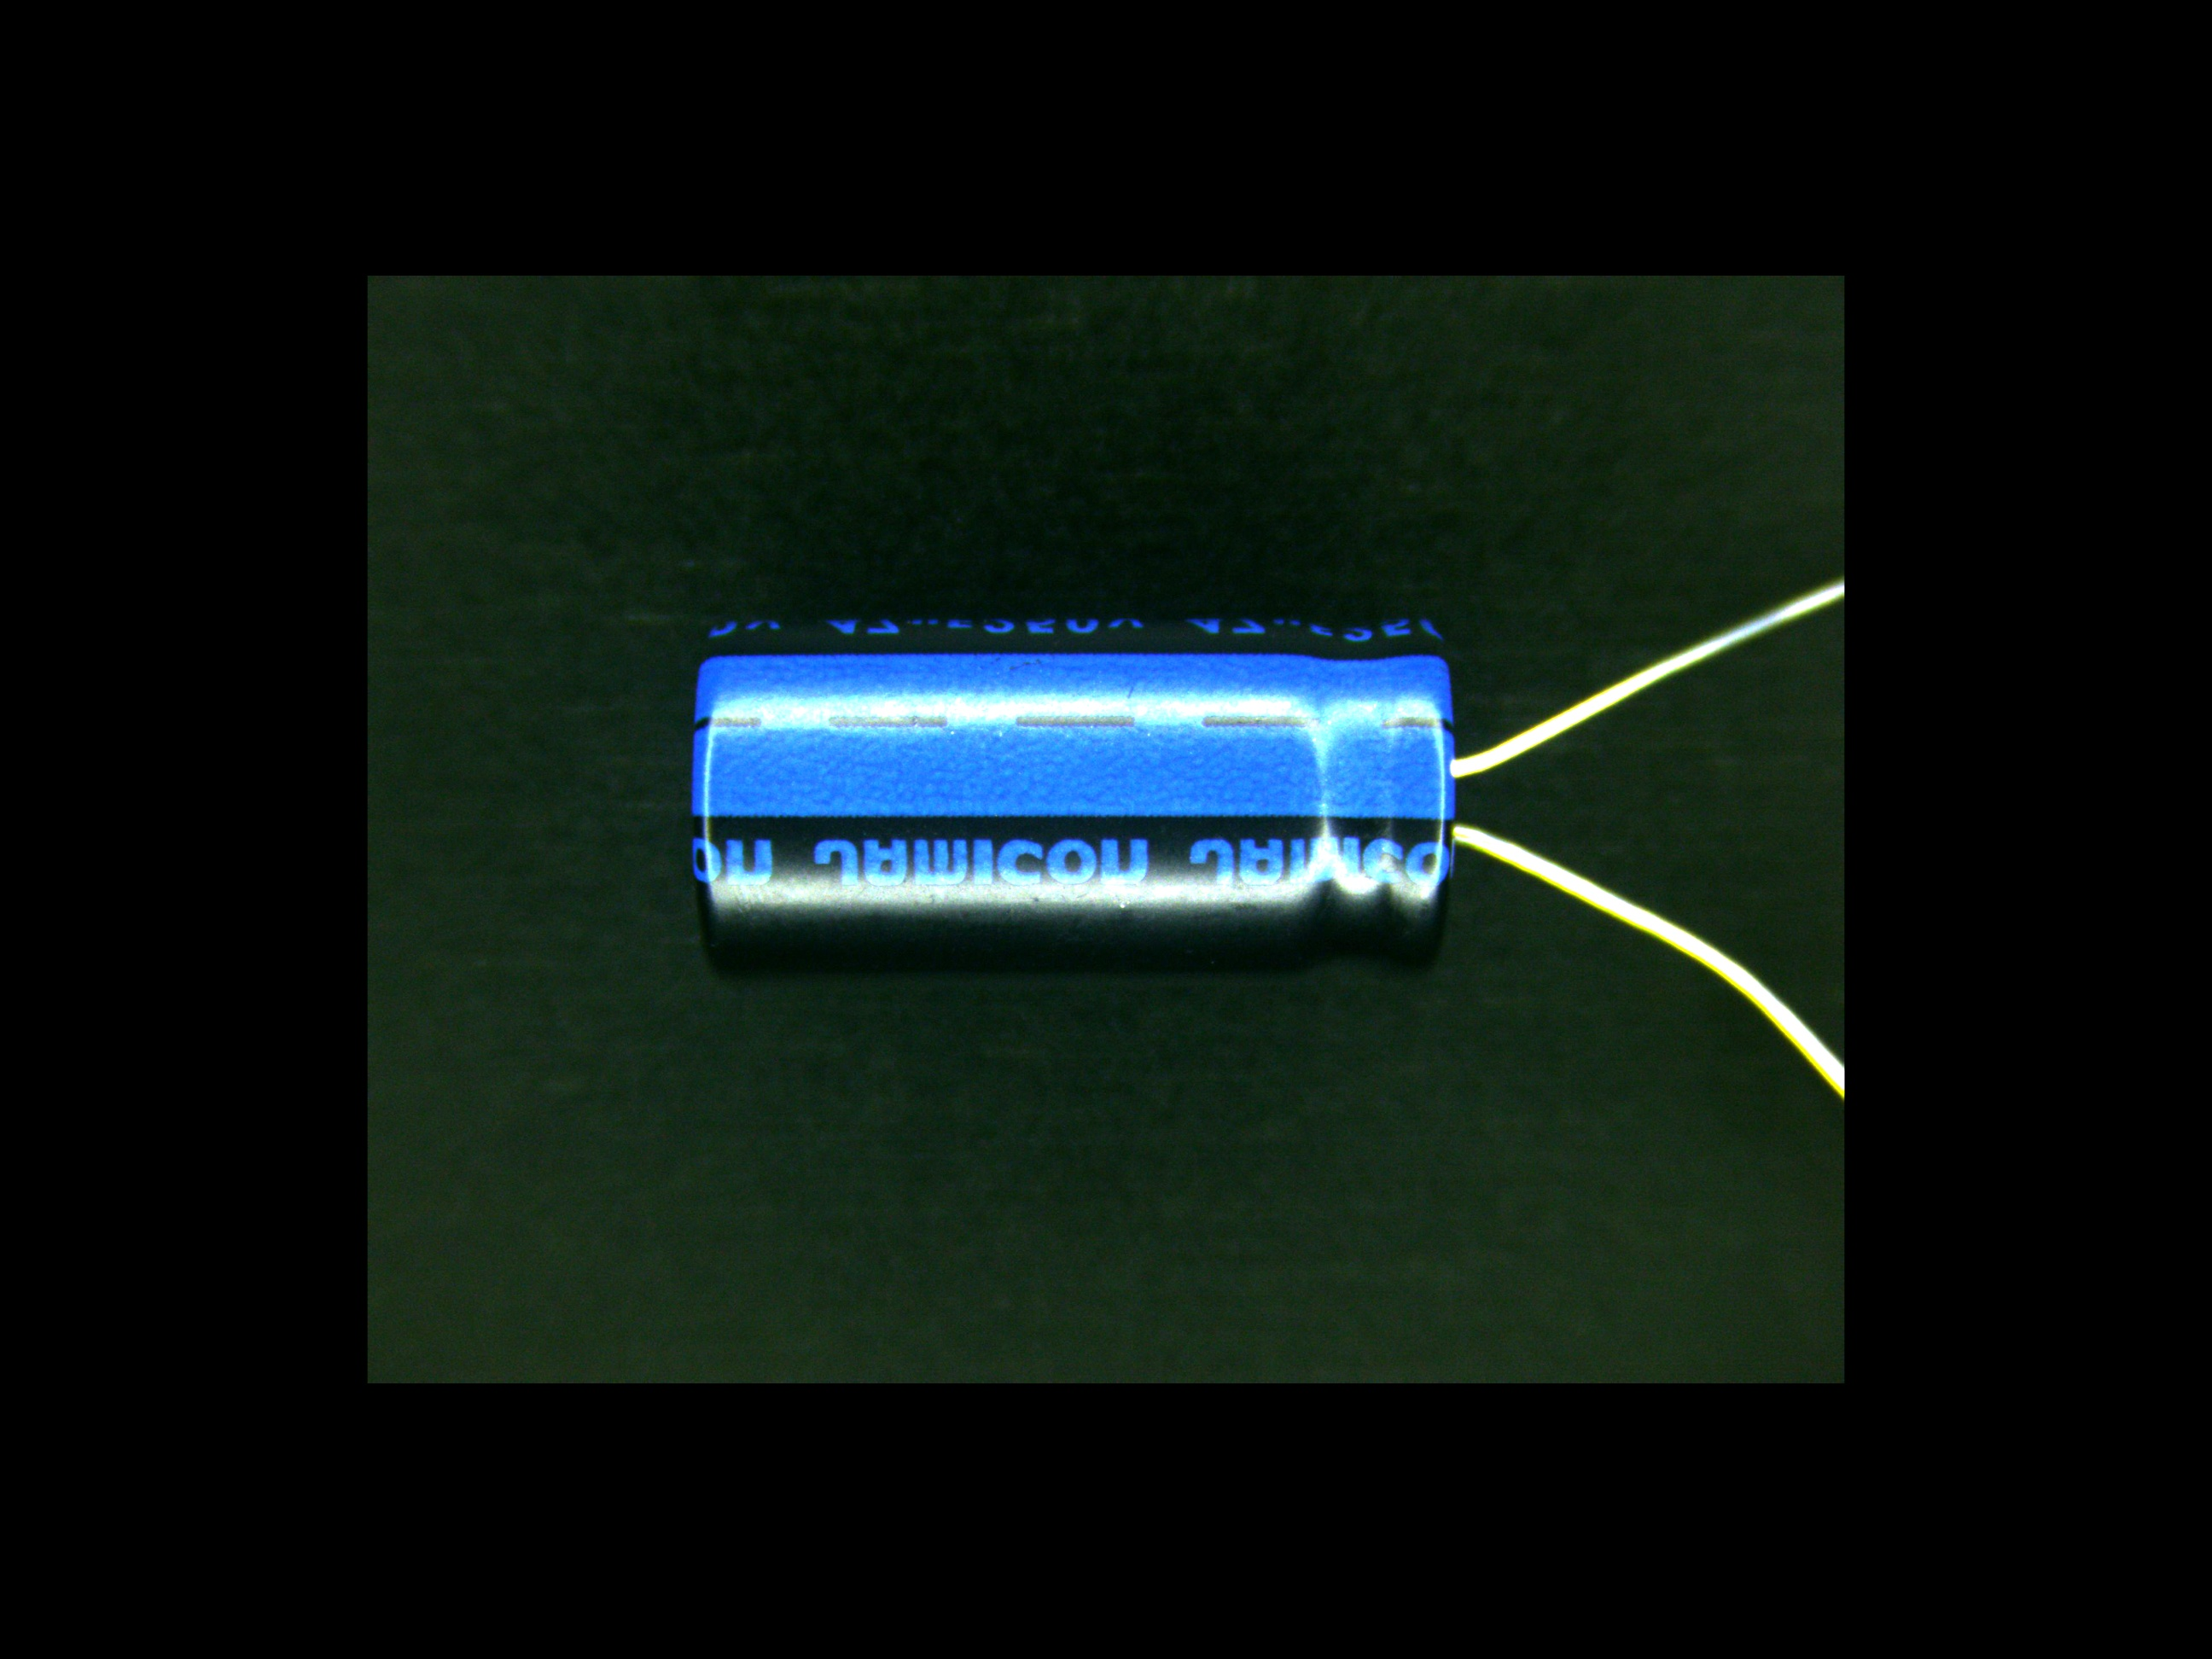c2: (686, 606, 1595, 972)
